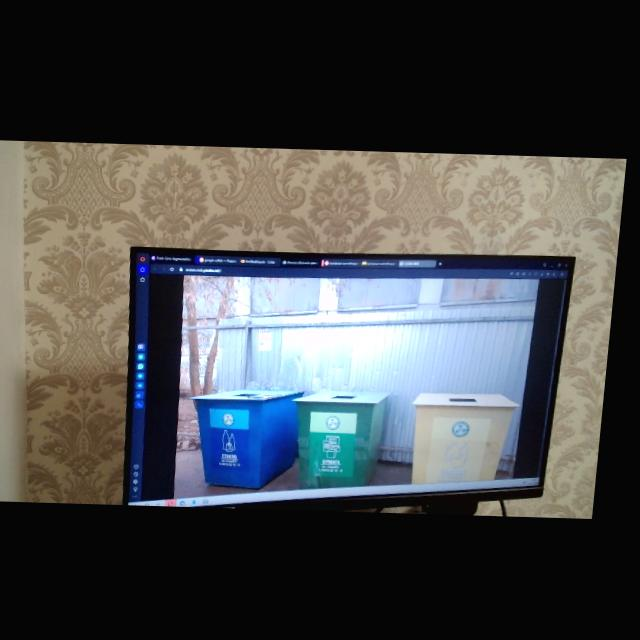Trash_Can_Closed: (192, 386, 312, 487), (414, 388, 530, 484), (294, 386, 397, 489)
